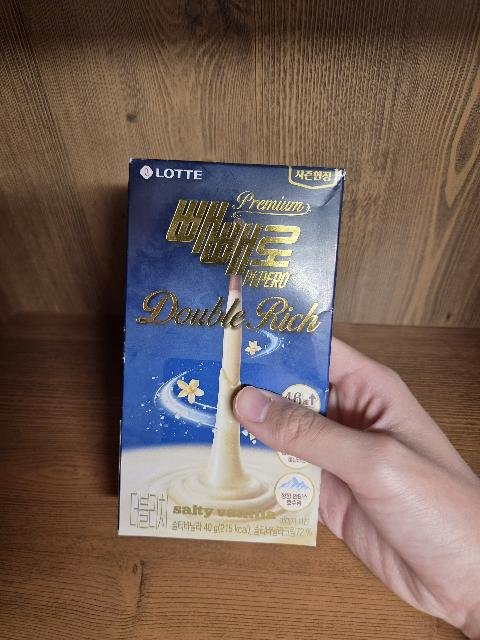pepero: (117, 158, 345, 546)
